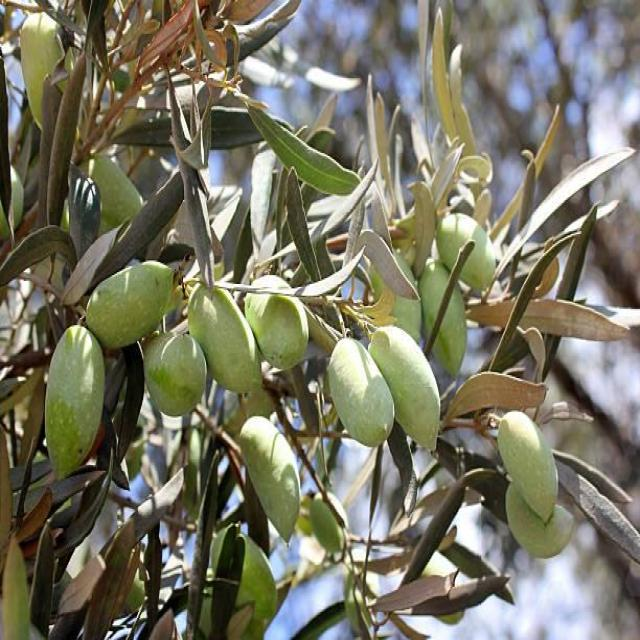Healthy: (326, 327, 439, 450), (498, 412, 573, 556), (46, 327, 104, 477), (188, 282, 260, 394), (86, 260, 176, 349), (238, 416, 300, 541), (245, 275, 308, 369), (146, 331, 206, 416), (436, 213, 496, 293)
